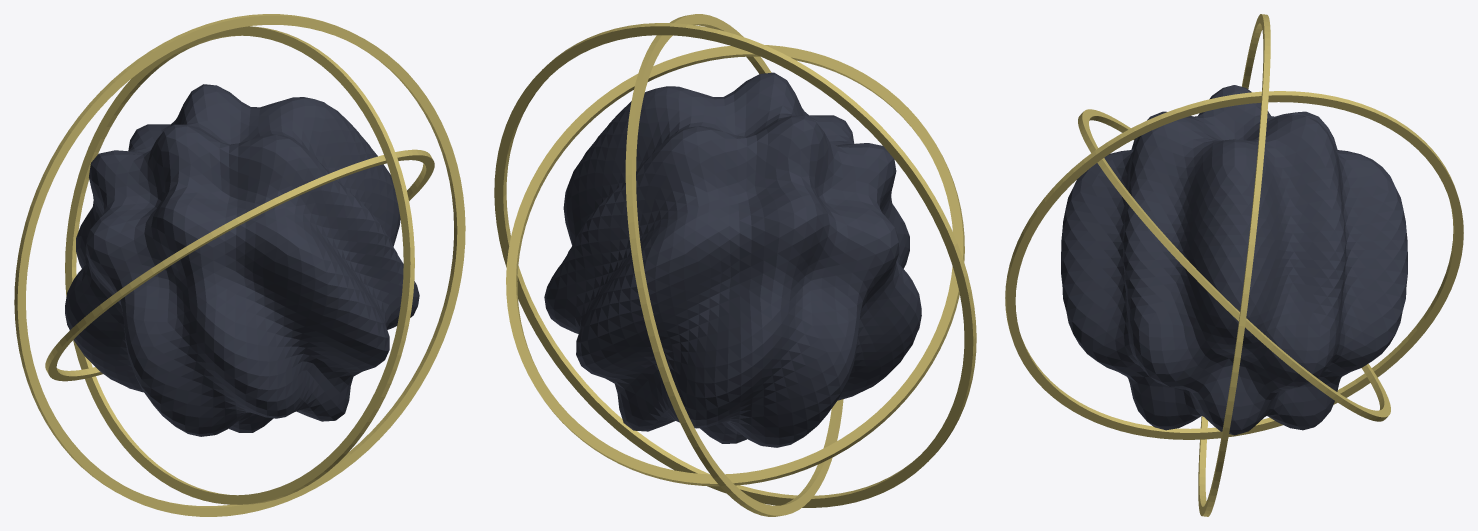
The model's file is gpu-artifact.glb.
The picture shows the model from 3 angles, left to right: view 1: azimuth 30°, elevation 25°; view 2: azimuth 150°, elevation 25°; view 3: azimuth 270°, elevation 25°; orthographic projection. The views are drawn at different scales.
Visible parts, largest first — view 1: zoth-civilization_obsidian_core, zoth-civilization_orbital_ring_2, zoth-civilization_orbital_ring_1, zoth-civilization_orbital_ring_0; view 2: zoth-civilization_obsidian_core, zoth-civilization_orbital_ring_2, zoth-civilization_orbital_ring_0, zoth-civilization_orbital_ring_1; view 3: zoth-civilization_obsidian_core, zoth-civilization_orbital_ring_1, zoth-civilization_orbital_ring_2, zoth-civilization_orbital_ring_0.
Part boxes in pixels (x1,y1,x2,y2): zoth-civilization_obsidian_core: [65, 84, 419, 436]; zoth-civilization_orbital_ring_2: [14, 14, 465, 516]; zoth-civilization_orbital_ring_1: [65, 26, 414, 504]; zoth-civilization_orbital_ring_0: [45, 149, 434, 381]; zoth-civilization_obsidian_core: [544, 72, 921, 447]; zoth-civilization_orbital_ring_2: [494, 23, 976, 507]; zoth-civilization_orbital_ring_0: [506, 45, 964, 486]; zoth-civilization_orbital_ring_1: [625, 14, 843, 516]; zoth-civilization_obsidian_core: [1061, 85, 1407, 435]; zoth-civilization_orbital_ring_1: [1005, 91, 1463, 439]; zoth-civilization_orbital_ring_2: [1198, 14, 1270, 516]; zoth-civilization_orbital_ring_0: [1078, 109, 1390, 421].
Size of the model in its own units: 3.24 by 3.22 by 2.94.
